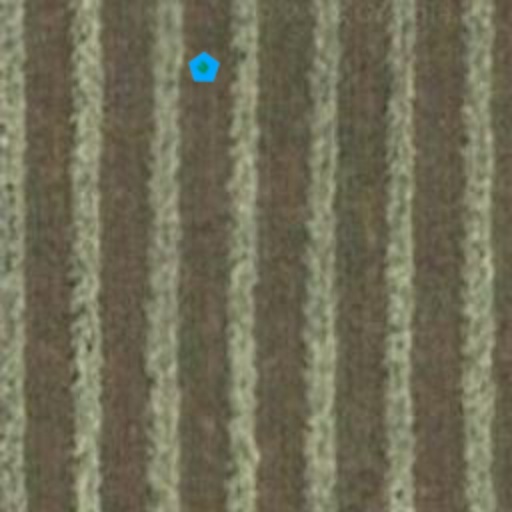pentagon: (180, 44, 228, 92)
